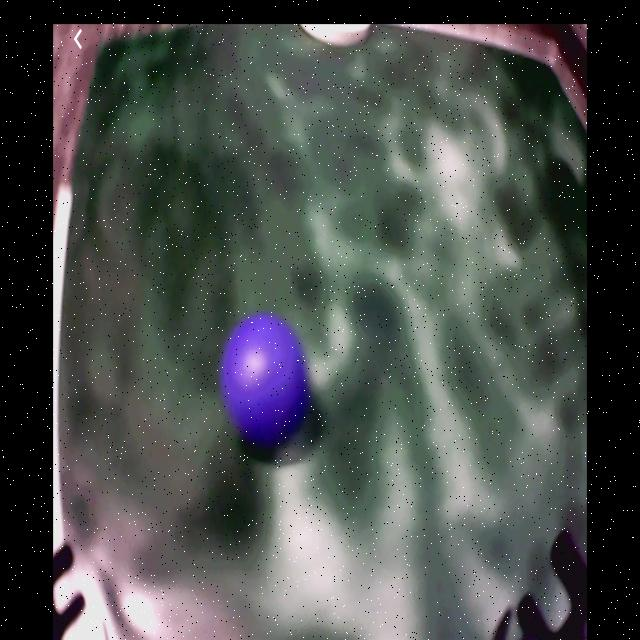ball: (224, 312, 310, 443)
